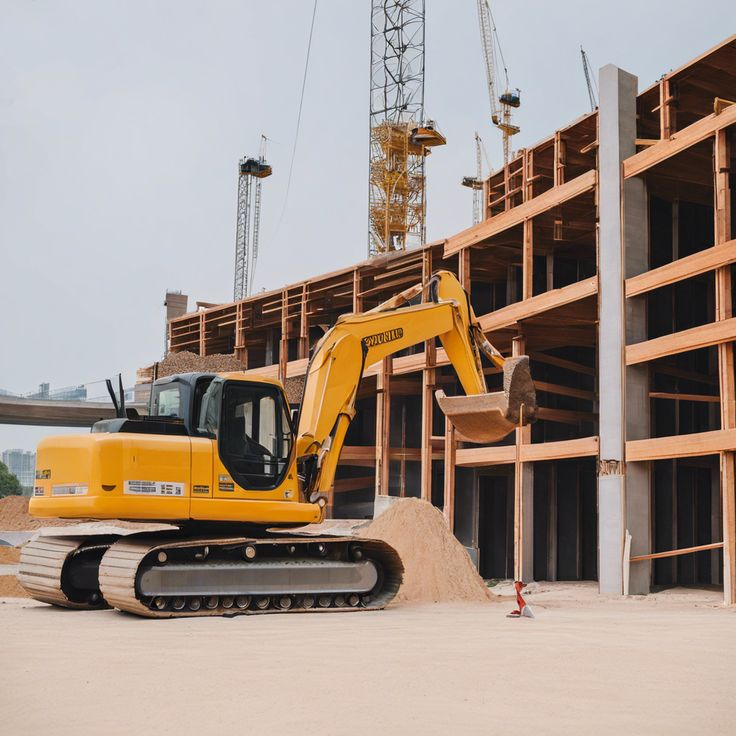excavator: (25, 277, 545, 624)
